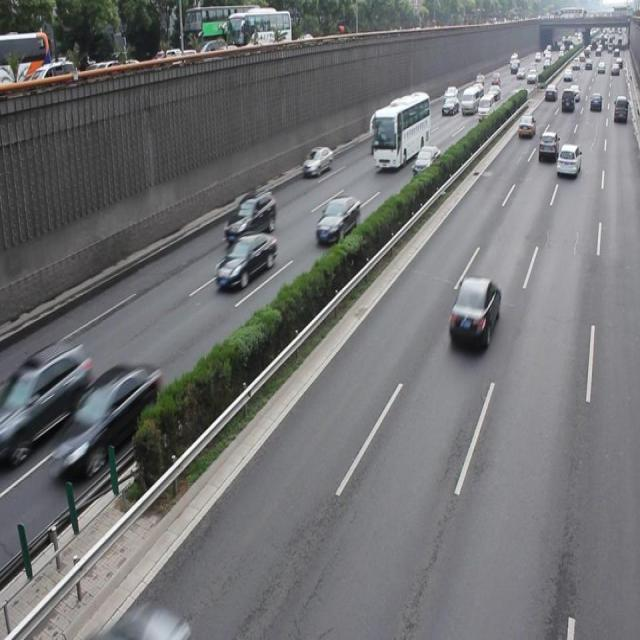car: (51, 363, 161, 475), (1, 340, 92, 464), (447, 275, 501, 348), (214, 230, 276, 288), (106, 601, 192, 640), (223, 188, 276, 243), (314, 195, 360, 242), (302, 145, 332, 176), (412, 144, 439, 177), (554, 143, 579, 177)
